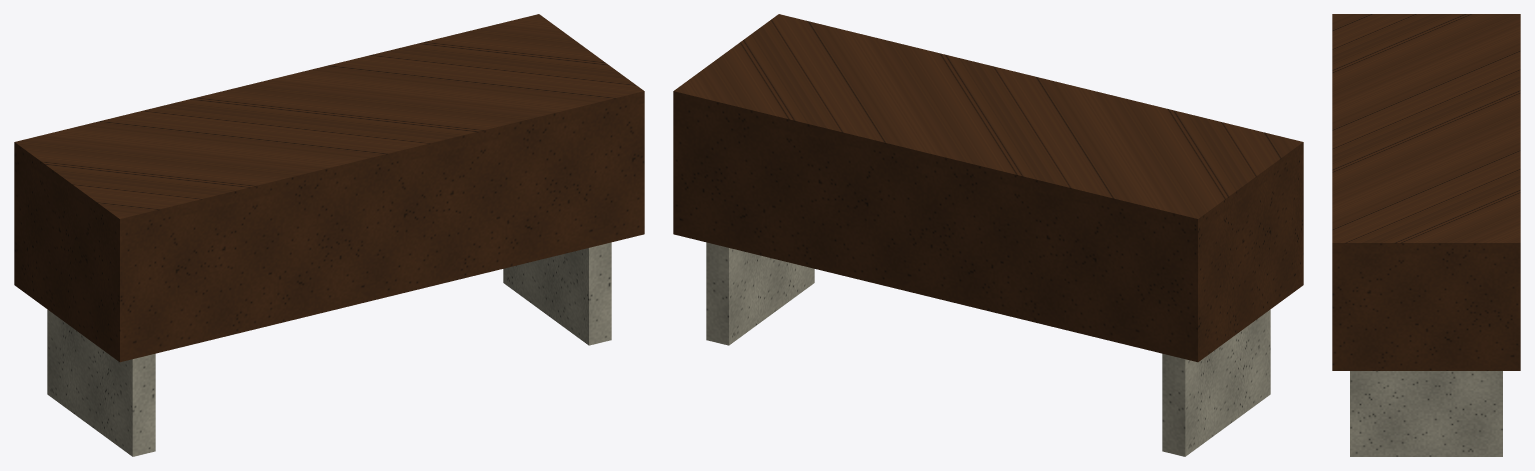
Rendered from PROP-F7CB7C9D706C_lod2.glb.
3 views of the same model, side by side, from view 1: azimuth 30°, elevation 25°; view 2: azimuth 150°, elevation 25°; view 3: azimuth 270°, elevation 25° (orthographic). The views are drawn at different scales.
Parts seen in each view (by area): view 1: produce_bin.001, stand_legs.001; view 2: produce_bin.001, stand_legs.001; view 3: produce_bin.001, stand_legs.001.
Part boxes in pixels (x1,y1,x2,y2): produce_bin.001: (14, 14, 644, 362); stand_legs.001: (47, 242, 611, 456); produce_bin.001: (673, 14, 1303, 362); stand_legs.001: (706, 242, 1270, 456); produce_bin.001: (1332, 14, 1520, 370); stand_legs.001: (1350, 371, 1502, 456).
Bounding box in the file's own units: 2.3 × 1.05 × 0.8.
2 materials, 2 textured.
